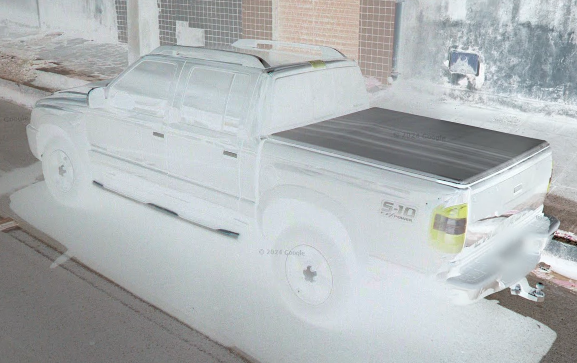car: (26, 43, 556, 329)
